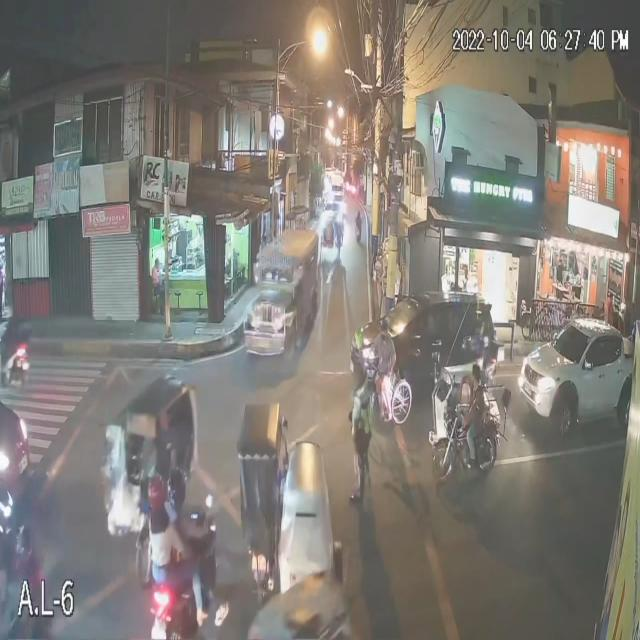Full-Faced: (17, 527, 36, 563), (166, 470, 182, 511), (150, 476, 168, 510)
